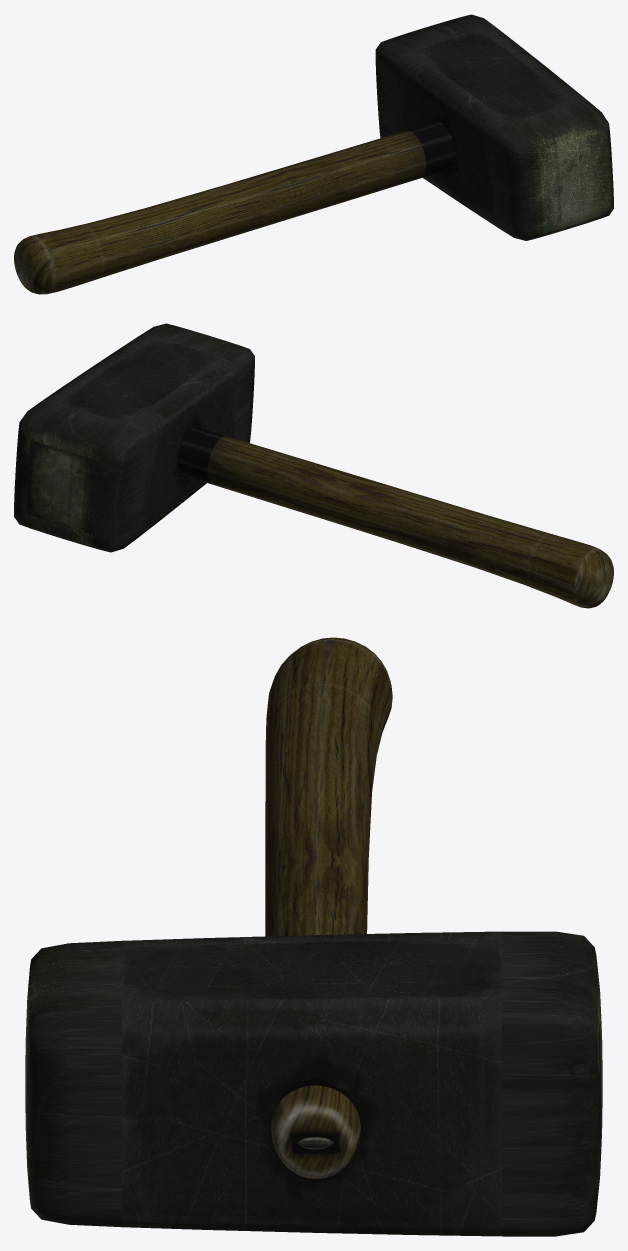
The model's file is Hammer_MPI01_fbx.fbx.
3 renders of one model, top to bottom at view 1: azimuth 30°, elevation 25°; view 2: azimuth 150°, elevation 25°; view 3: azimuth 270°, elevation 25°, orthographic. The views are drawn at different scales.
Visible parts, largest first — view 1: hammer; view 2: hammer; view 3: hammer.
Boxes of the visible parts, x1,y1,x2,y2 form: hammer: (14, 14, 613, 294); hammer: (14, 323, 613, 608); hammer: (25, 637, 602, 1236).
Size of the model in its own units: 19.56 by 4.02 by 9.
